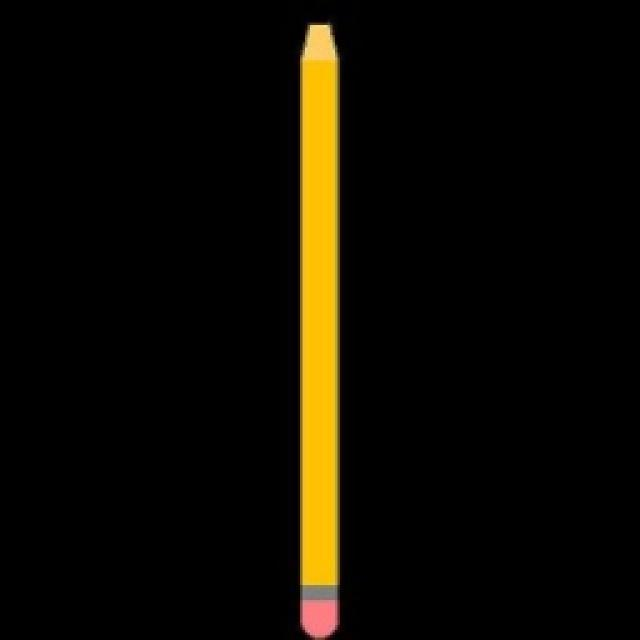pencil: (292, 18, 342, 638)
